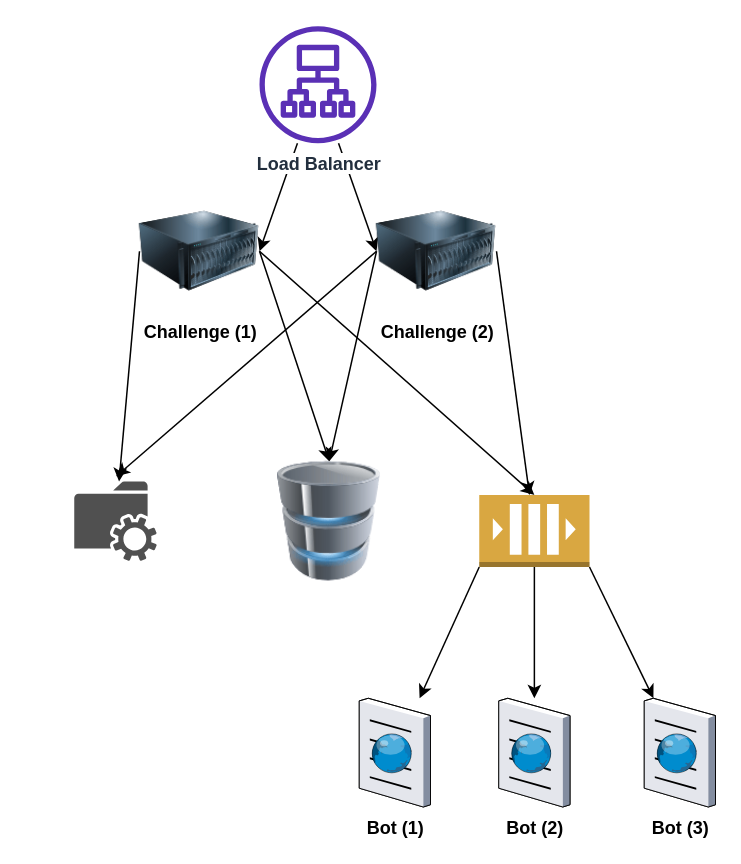
Some shapes in this 741 by 864 pixel diagram are drawn without their labels. The shapes that lost their labels are listed below. From the top down, each one's centre as x and y in pixels, then its label:
the point at 115,520: Network File Storage
the point at 328,520: Database
the point at 534,530: Queue
